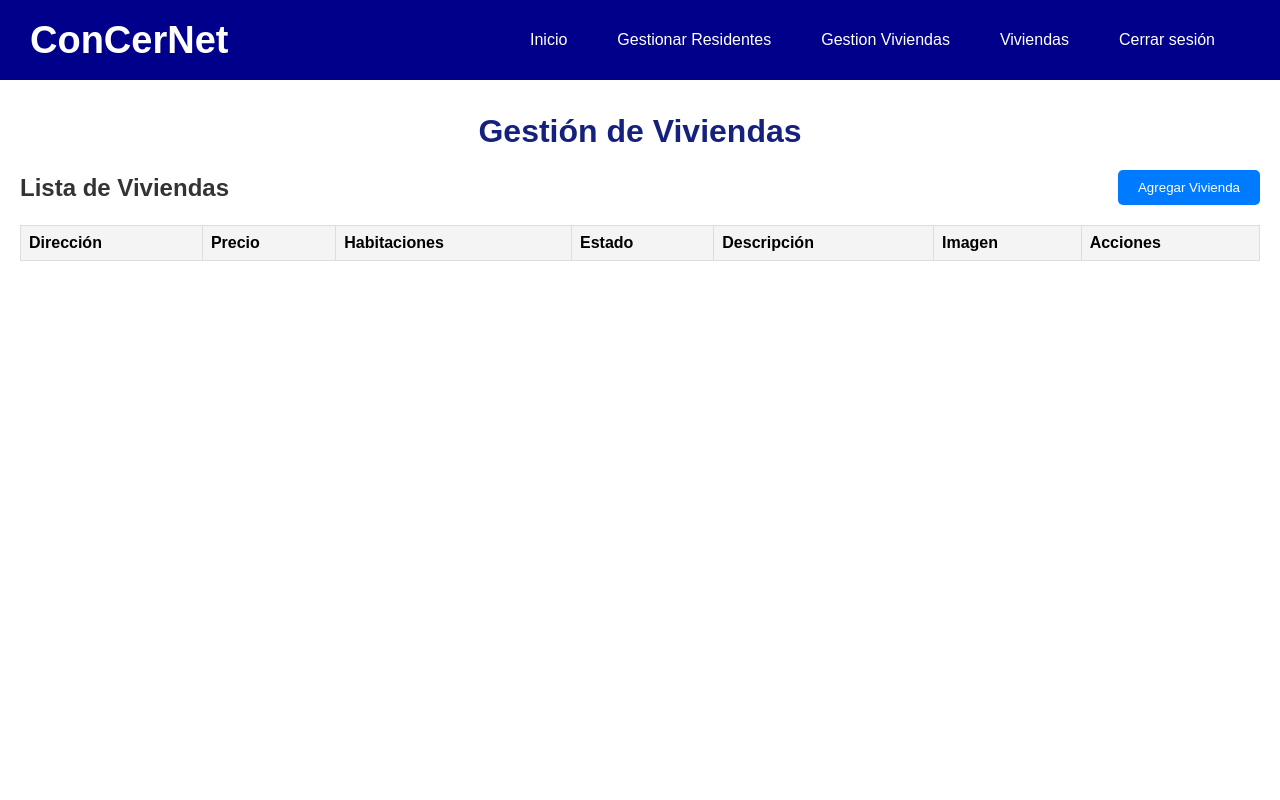
Test: Pruebas unitarias para Gestión de Viviendas › Debe mostrar un error si la dirección tiene menos de 6 caracteres
The width and height of the screenshot is (1280, 800).
# Simula la apertura del modal
Click the button "Agregar Vivienda".
click(1189, 188)  # box [1118,170,1260,205]
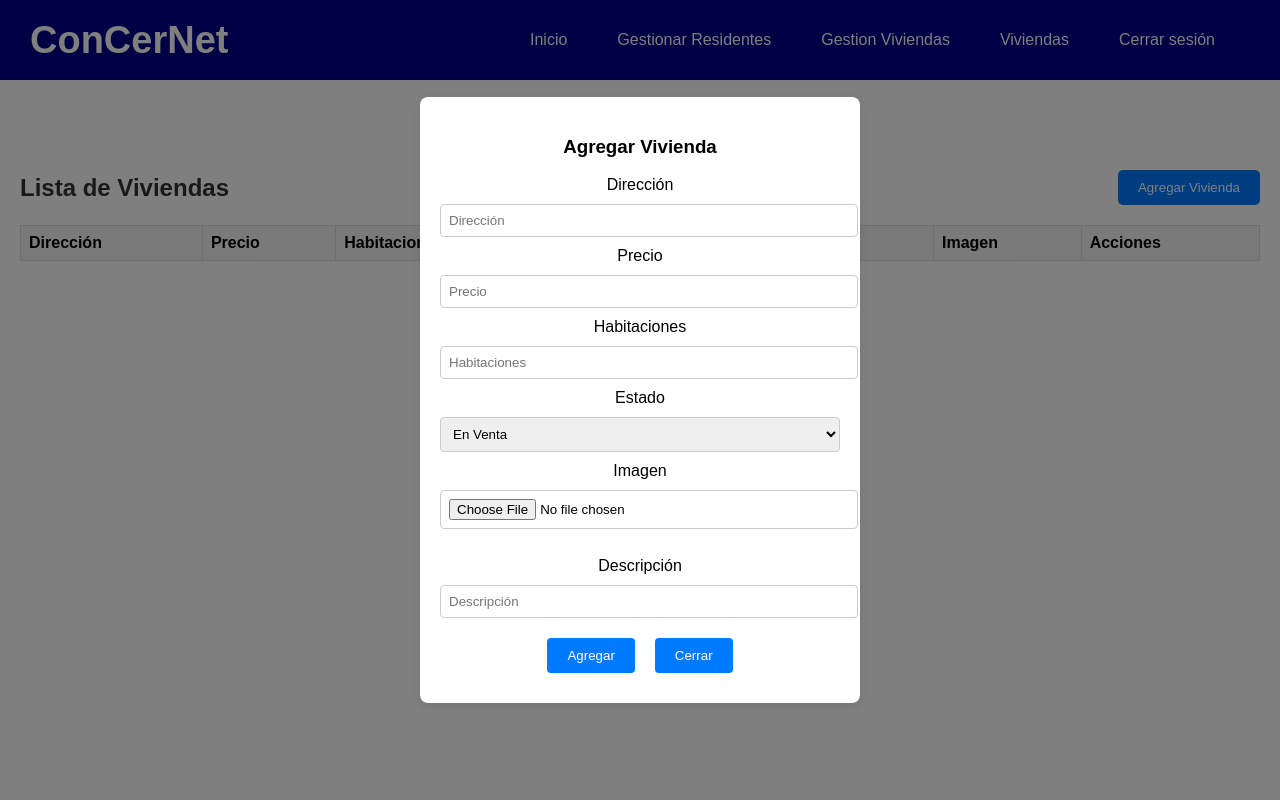
# Ahora busca el input con el placeholder "Dirección"
Type "C123" into the field with placeholder "Dirección".
click(649, 221); type("C123")  # box [440,204,858,237]
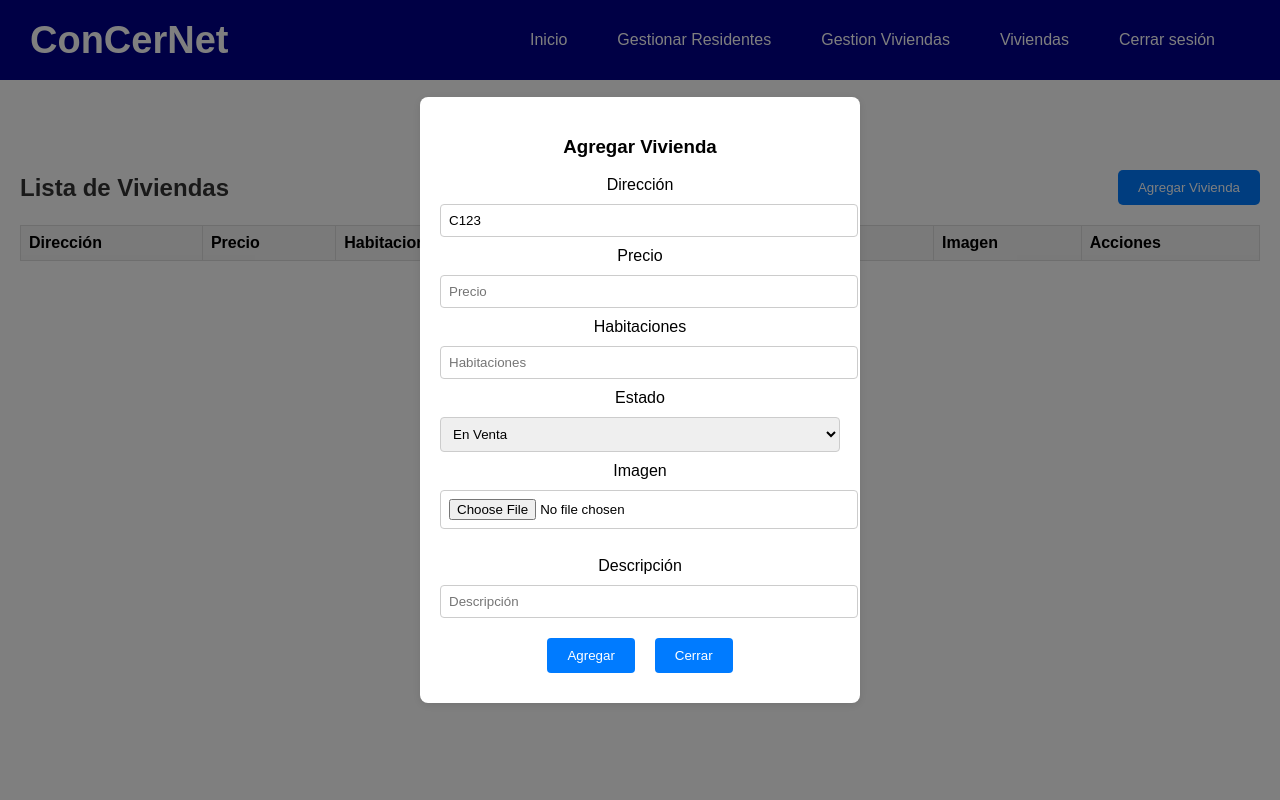
Leave the field with placeholder "Dirección", box [440,204,858,237]
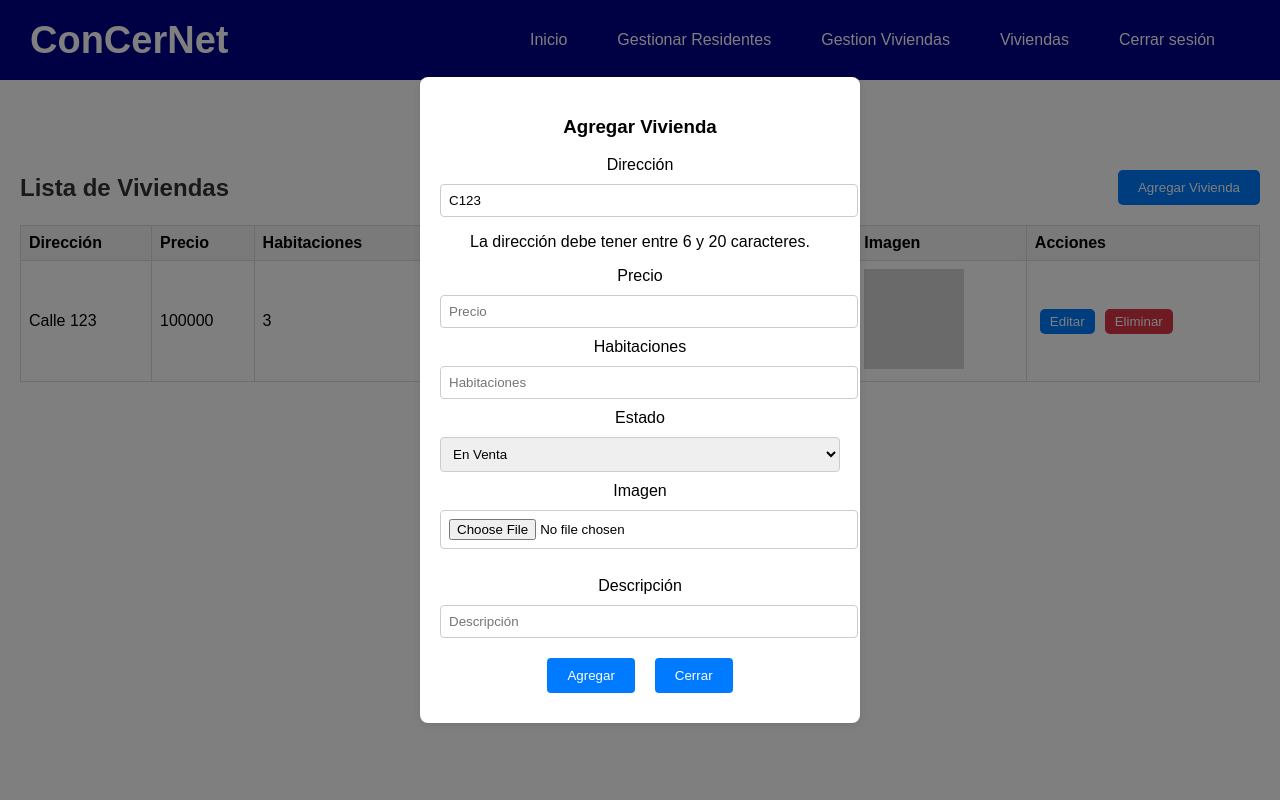
Expected: the text "La dirección debe tener entre 6 y 20 caracteres." is shown, [470,233,810,250]
